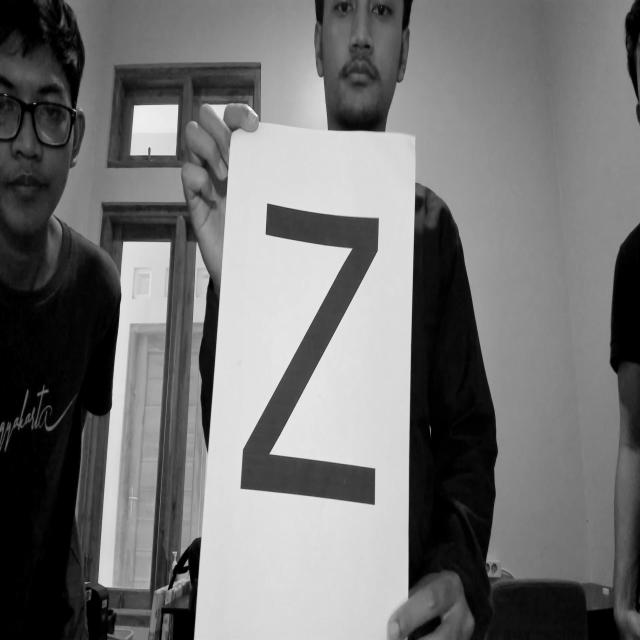z: (237, 185, 381, 509)
